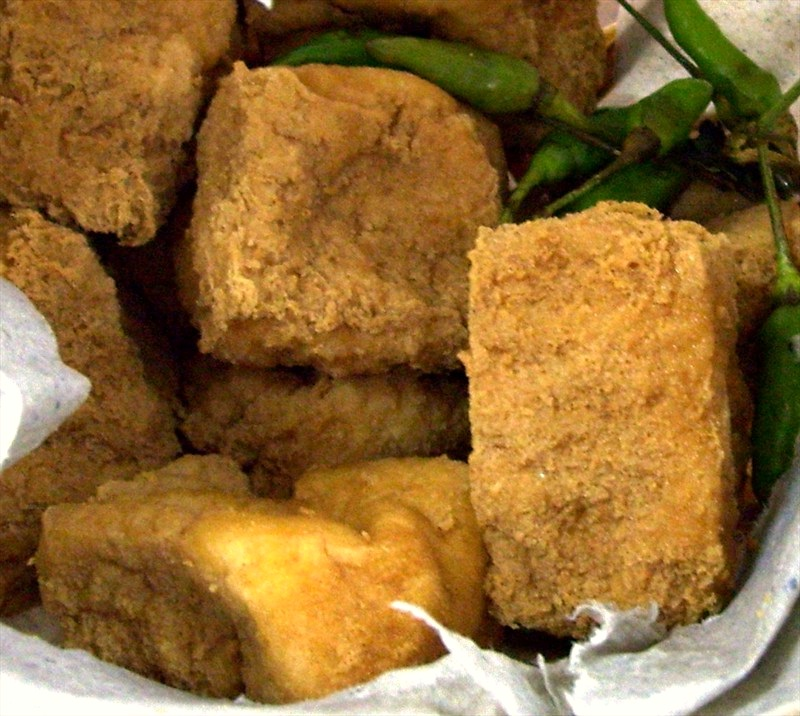Tahu Goreng: (177, 76, 718, 702)
